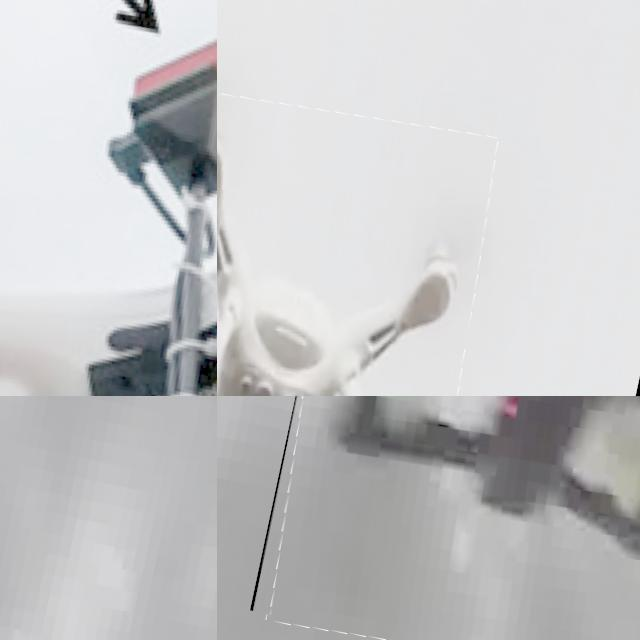drone: (217, 64, 507, 396), (249, 396, 640, 640), (0, 0, 217, 396)
